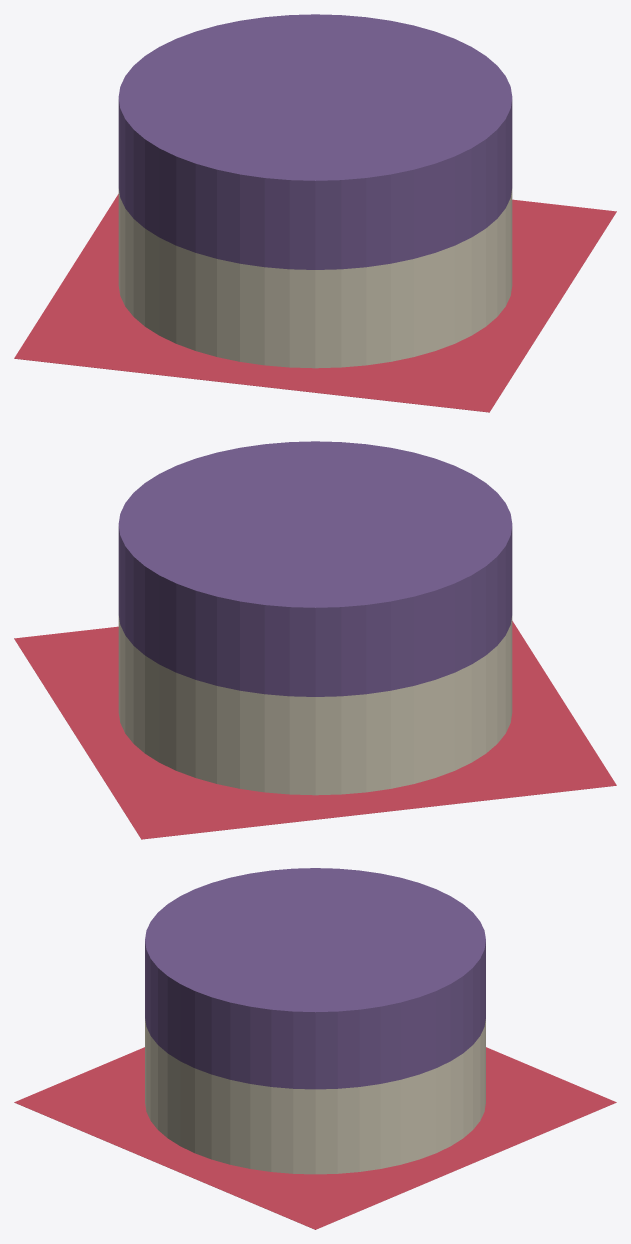
The model's file is VVU.glb.
The picture shows the model from 3 angles, top to bottom: view 1: azimuth 30°, elevation 25°; view 2: azimuth 150°, elevation 25°; view 3: azimuth 270°, elevation 25°; orthographic projection. The views are drawn at different scales.
Visible parts, largest first — view 1: Mesh_Mesh_head_geo.001_lambert2SG.001; view 2: Mesh_Mesh_head_geo.001_lambert2SG.001; view 3: Mesh_Mesh_head_geo.001_lambert2SG.001.
Boxes of the visible parts, x1,y1,x2,y2 form: Mesh_Mesh_head_geo.001_lambert2SG.001: (14,14,616,412); Mesh_Mesh_head_geo.001_lambert2SG.001: (14,441,616,839); Mesh_Mesh_head_geo.001_lambert2SG.001: (14,868,616,1229).
Bounding box in the file's own units: 0.0354 × 0.0105 × 0.0354.
